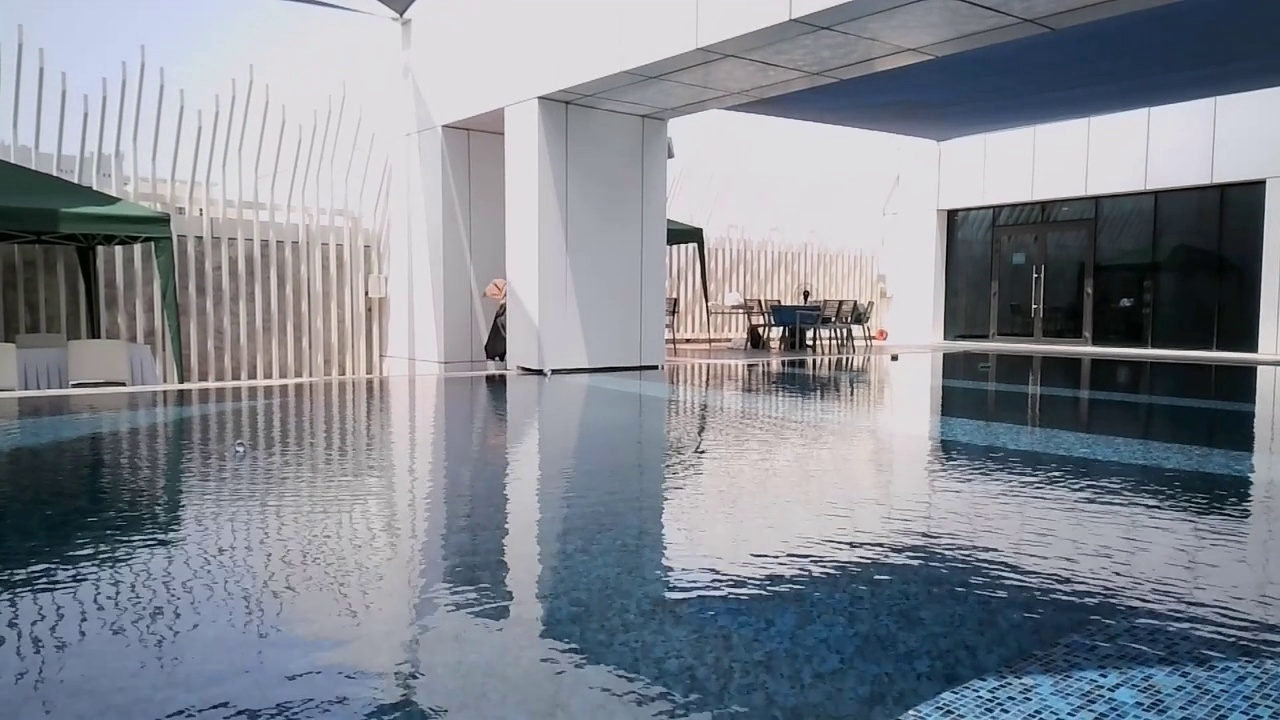debris: (230, 439, 250, 457), (977, 359, 996, 373), (542, 364, 553, 379), (888, 351, 901, 362)
